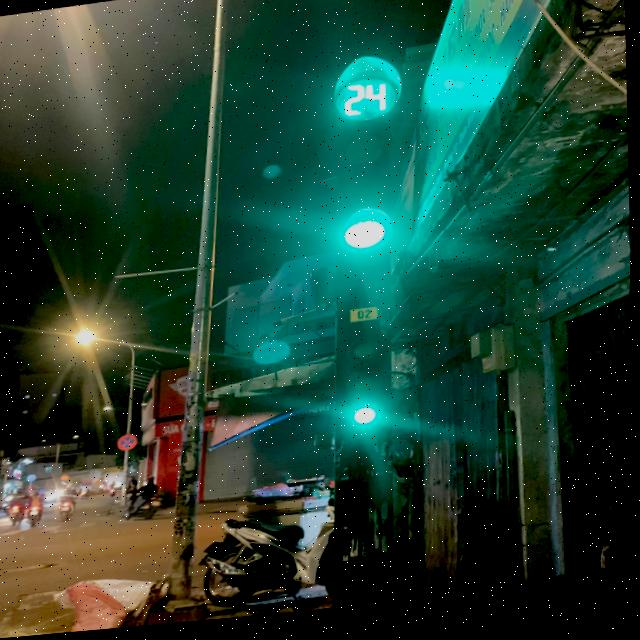Green: (320, 129, 400, 268), (338, 332, 401, 440)
